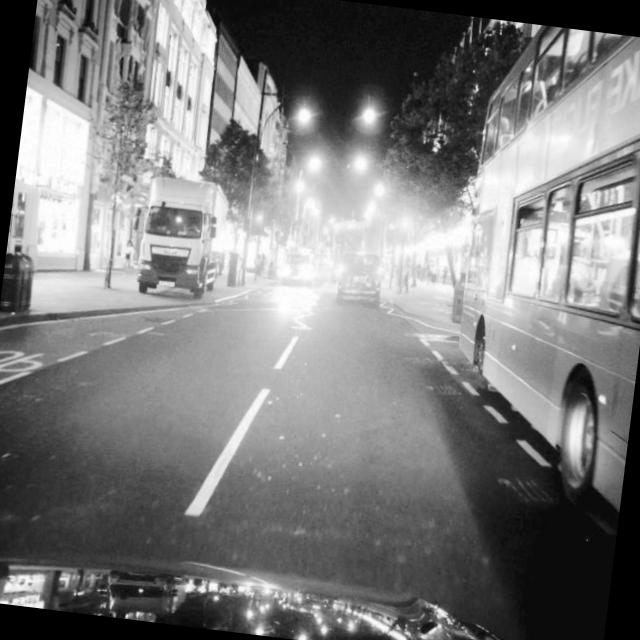Truck: (134, 173, 232, 302)
